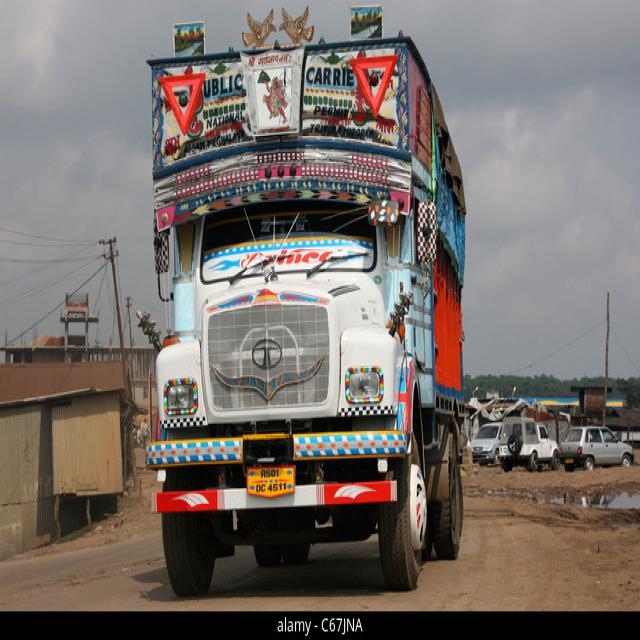goods: (146, 36, 465, 596)
